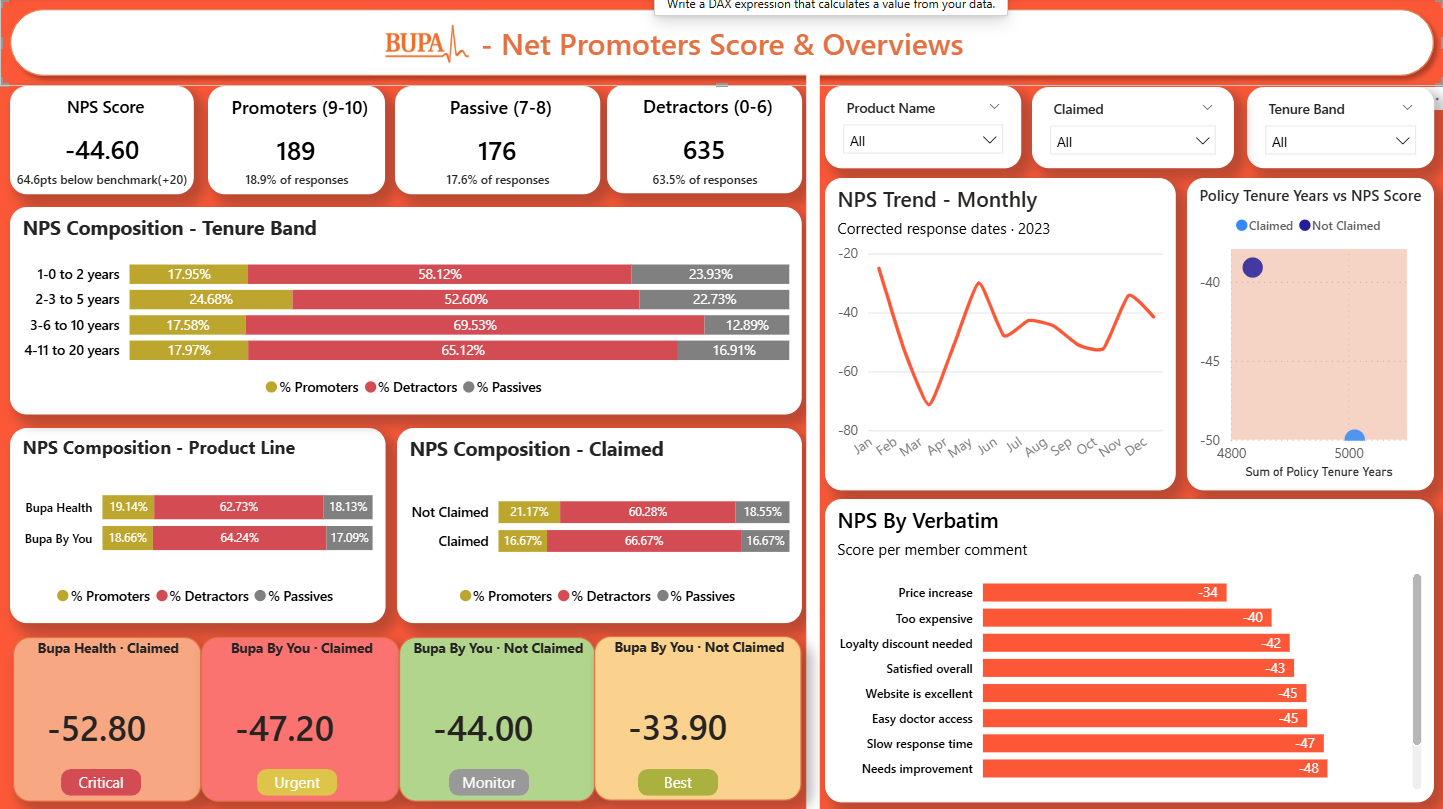

What the dashboard file says about the page in this screenshot:
{"tool":"powerbi","page":{"name":"Bupa- Overview Dashboard","canvas":[1280,720],"ordinal":0},"visuals":[{"type":"cardVisual","title":"NPS Score","fields":{"Data":["bupa_customer_Data_1000.NPS Score"]},"box":[8.9,78,163.2,95.8],"z":0},{"type":"cardVisual","title":"Promoters (9-10)","fields":{"Data":["bupa_customer_Data_1000.Promoters"]},"box":[184.4,78,156.9,95.8],"z":1000},{"type":"cardVisual","title":"Passive (7-8)","fields":{"Data":["bupa_customer_Data_1000.Passives"]},"box":[350.2,78,181.8,95.8],"z":2000},{"type":"cardVisual","title":"Detractors (0-6)","fields":{"Data":["bupa_customer_Data_1000.Detractors"]},"box":[538.2,77.1,172.9,95.8],"z":3000},{"type":"hundredPercentStackedBarChart","title":"NPS Composition - Product Line","fields":{"Category":["bupa_customer_Data_1000.Product Line Name"],"Y":["bupa_customer_Data_1000.% Promoters","bupa_customer_Data_1000.% Detractors","bupa_customer_Data_1000.% Passives"]},"box":[8.9,381.3,332.5,172.9],"z":4000},{"type":"shape","box":[0,0.9,1280.4,77.1],"z":5000},{"type":"hundredPercentStackedBarChart","title":"NPS Composition - Tenure Band","fields":{"Category":["bupa_customer_Data_1000.Tenure Band"],"Y":["bupa_customer_Data_1000.% Promoters","bupa_customer_Data_1000.% Detractors","bupa_customer_Data_1000.% Passives"]},"box":[8.9,185.3,702.3,184.4],"z":6000},{"type":"hundredPercentStackedBarChart","title":"NPS Composition - Claimed","fields":{"Category":["bupa_customer_Data_1000.Claimed"],"Y":["bupa_customer_Data_1000.% Promoters","bupa_customer_Data_1000.% Detractors","bupa_customer_Data_1000.% Passives"]},"box":[352,381.3,359.1,172.9],"z":7000},{"type":"slicer","fields":{"Values":["bupa_customer_Data_1000.Product Line Name"]},"box":[731.5,78,173.8,72.7],"z":8000},{"type":"slicer","fields":{"Values":["bupa_customer_Data_1000.Tenure Band"]},"box":[1105.7,78.9,165.8,71.8],"z":9000},{"type":"slicer","fields":{"Values":["bupa_customer_Data_1000.Claimed"]},"box":[915.1,78.9,179.1,71.8],"z":10000},{"type":"lineChart","title":"NPS Trend - Monthly ","fields":{"Y":["bupa_customer_Data_1000.NPS Score"],"Category":["bupa_customer_Data_1000.Response Month"]},"box":[731.5,159.6,311.2,276.7],"z":11000},{"type":"scatterChart","title":"Policy Tenure Years vs NPS Score","fields":{"X":["Sum(bupa_customer_Data_1000.Policy Tenure Years)"],"Y":["bupa_customer_Data_1000.NPS Score"],"Size":["bupa_customer_Data_1000.Total Responses"],"Series":["bupa_customer_Data_1000.Claimed"]},"box":[1052.5,159.6,219,276.7],"z":12000},{"type":"clusteredBarChart","title":"NPS By Verbatim","fields":{"Category":["bupa_customer_Data_1000.Bupa NPS Verbatim"],"Y":["bupa_customer_Data_1000.NPS Score"]},"box":[731.5,444.2,540,268.7],"z":13000},{"type":"shape","box":[569.3,66.5,303.3,653.5],"z":14000},{"type":"textbox","box":[5.3,146.3,170.2,26.6],"z":15000},{"type":"textbox","box":[205.7,146.3,115.3,26.6],"z":16000},{"type":"textbox","box":[383.9,146.3,115.3,26.6],"z":17000},{"type":"textbox","box":[567.5,146.3,115.3,26.6],"z":18000},{"type":"cardVisual","title":"Bupa Health · Claimed","fields":{"Data":["bupa_customer_Data_1000.NPS - BH Claimed"]},"box":[11.5,566.6,166.7,146.3],"z":19000},{"type":"cardVisual","title":"Bupa By You · Claimed","fields":{"Data":["bupa_customer_Data_1000.NPS - BBY Claimed"]},"box":[178.2,566.6,176.5,146.3],"z":20000},{"type":"cardVisual","title":"Bupa By You · Not Claimed","fields":{"Data":["bupa_customer_Data_1000.NPS - BBY Not Claimed"]},"box":[353.8,566.6,173.8,146.3],"z":21000},{"type":"cardVisual","title":"Bupa By You · Not Claimed","fields":{"Data":["bupa_customer_Data_1000.NPS - BH Not Claimed"]},"box":[526.7,565.7,184.4,146.3],"z":22000},{"type":"shape","box":[54,683.6,71.1,23.7],"z":23000},{"type":"shape","box":[227.6,683.6,71.1,23.7],"z":24000},{"type":"shape","box":[398.2,683.6,71.1,23.7],"z":25000},{"type":"shape","box":[566,683.6,71.1,23.7],"z":26000},{"type":"image","box":[329.9,11.5,97.5,56.7],"z":27000}]}

Visuals, with their boxes in screenshot pixels (x1, y1, x2, y2):
"NPS Score" cardVisual: box=[0, 78, 179, 188]
"Promoters (9-10)" cardVisual: box=[193, 78, 373, 188]
"Passive (7-8)" cardVisual: box=[383, 78, 592, 188]
"Detractors (0-6)" cardVisual: box=[599, 77, 797, 187]
"NPS Composition - Product Line" hundredPercentStackedBarChart: box=[0, 426, 373, 625]
shape: box=[0, 0, 1442, 78]
"NPS Composition - Tenure Band" hundredPercentStackedBarChart: box=[0, 201, 797, 413]
"NPS Composition - Claimed" hundredPercentStackedBarChart: box=[385, 426, 797, 625]
slicer - bupa_customer_Data_1000.Product Line Name: box=[820, 78, 1020, 162]
slicer - bupa_customer_Data_1000.Tenure Band: box=[1250, 79, 1440, 162]
slicer - bupa_customer_Data_1000.Claimed: box=[1031, 79, 1237, 162]
"NPS Trend - Monthly " lineChart: box=[820, 172, 1177, 489]
"Policy Tenure Years vs NPS Score" scatterChart: box=[1189, 172, 1440, 489]
"NPS By Verbatim" clusteredBarChart: box=[820, 498, 1440, 807]
shape: box=[634, 65, 982, 808]
textbox: box=[0, 157, 183, 187]
textbox: box=[217, 157, 349, 187]
textbox: box=[422, 157, 554, 187]
textbox: box=[632, 157, 765, 187]
"Bupa Health · Claimed" cardVisual: box=[0, 639, 186, 807]
"Bupa By You · Claimed" cardVisual: box=[186, 639, 388, 807]
"Bupa By You · Not Claimed" cardVisual: box=[387, 639, 587, 807]
"Bupa By You · Not Claimed" cardVisual: box=[585, 638, 797, 806]
shape: box=[43, 773, 125, 800]
shape: box=[242, 773, 324, 800]
shape: box=[438, 773, 520, 800]
shape: box=[631, 773, 712, 800]
image: box=[360, 2, 472, 67]
